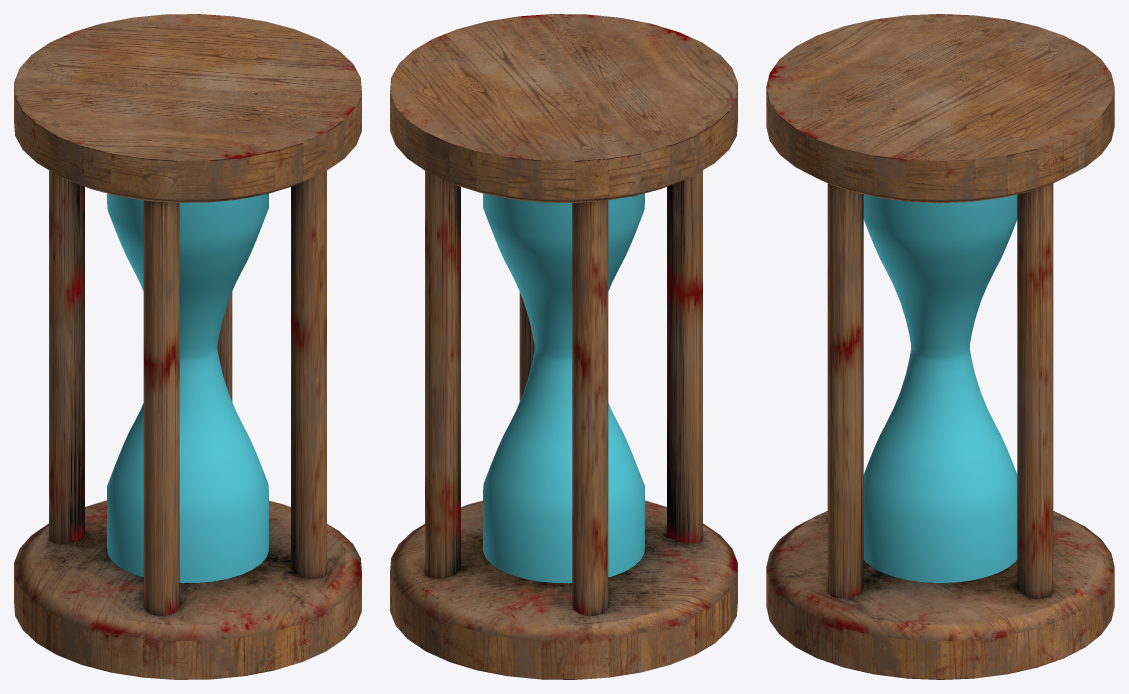
The model's file is sand_clock.fbx.
3 renders of one model, left to right at view 1: azimuth 30°, elevation 25°; view 2: azimuth 150°, elevation 25°; view 3: azimuth 270°, elevation 25°, orthographic.
Visible parts, largest first — view 1: clock_wood, clock_glass; view 2: clock_wood, clock_glass; view 3: clock_wood, clock_glass.
Boxes of the visible parts, <box> form: clock_wood: <box>14,14,361,679</box>; clock_glass: <box>107,193,268,583</box>; clock_wood: <box>390,14,737,679</box>; clock_glass: <box>483,193,644,583</box>; clock_wood: <box>766,14,1114,679</box>; clock_glass: <box>863,194,1017,582</box>.
Bounding box in the file's own units: 31.77 × 52.17 × 31.77.
